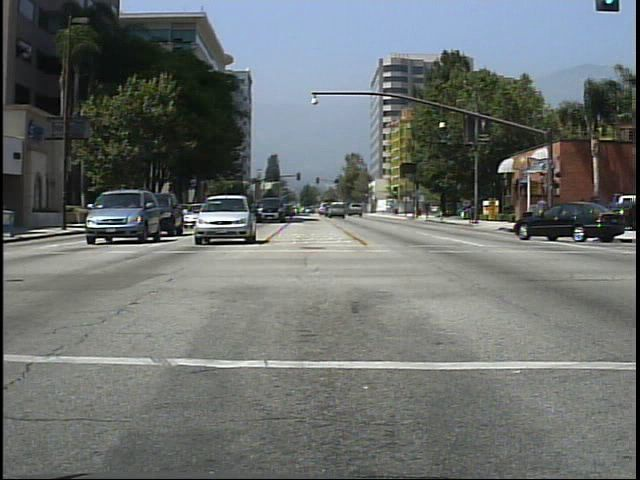person: (575, 193, 596, 237), (535, 192, 551, 238)
